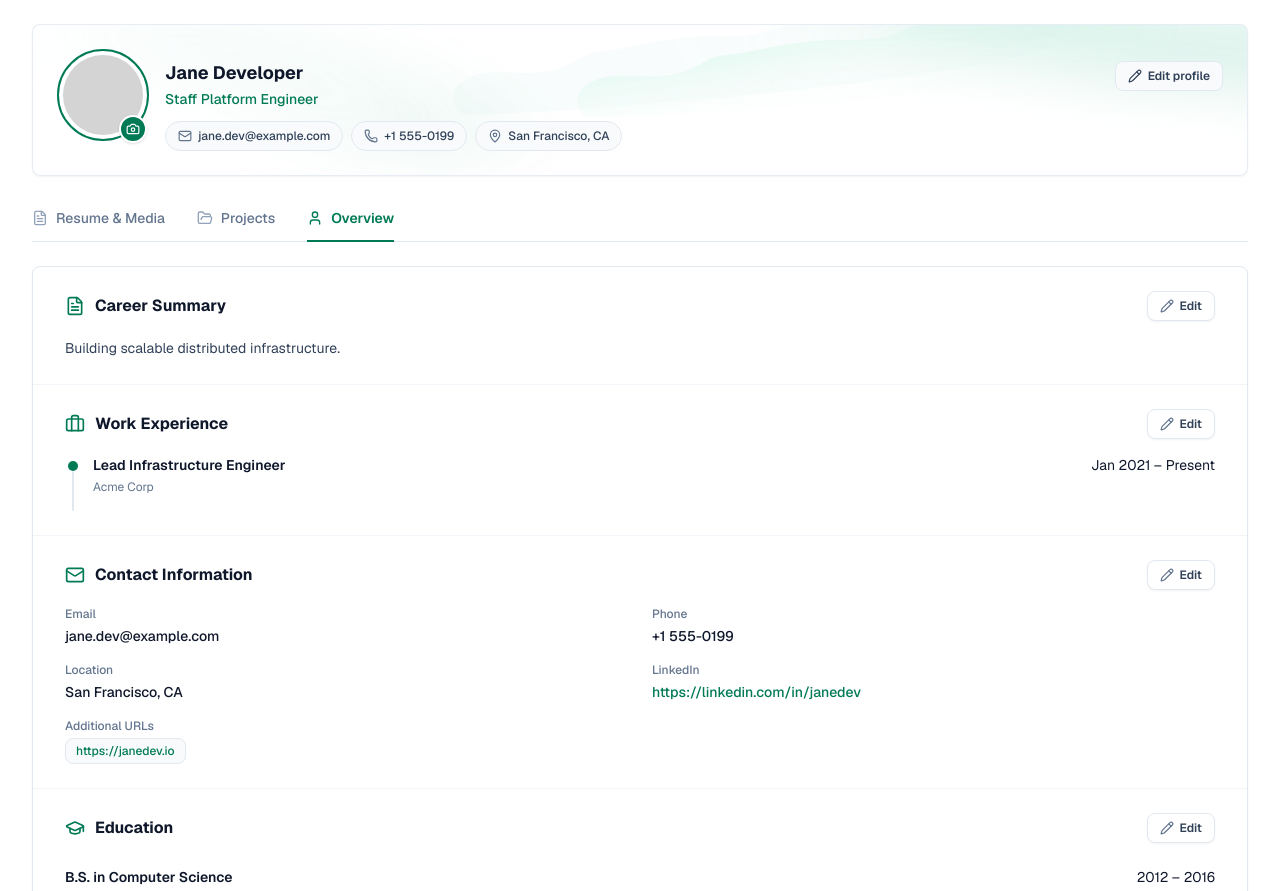
TalentProfileView › opens modal dialogs when clicking Edit on Overview sections
Click the button with aria-label "Edit Career Summary".
click(1181, 306)  # box [1147,291,1215,321]
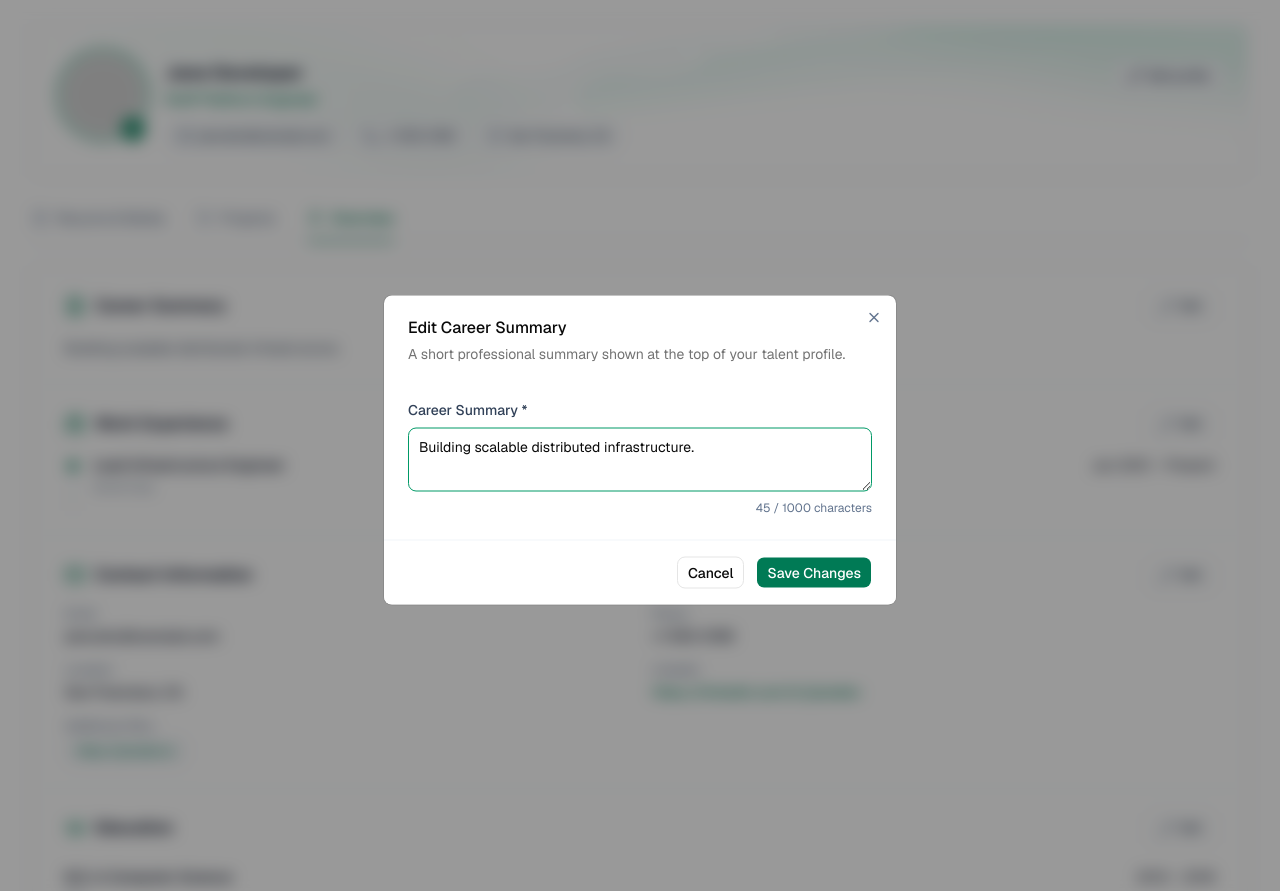
Now the heading "Edit Career Summary" is shown, box [408,316,567,338]
